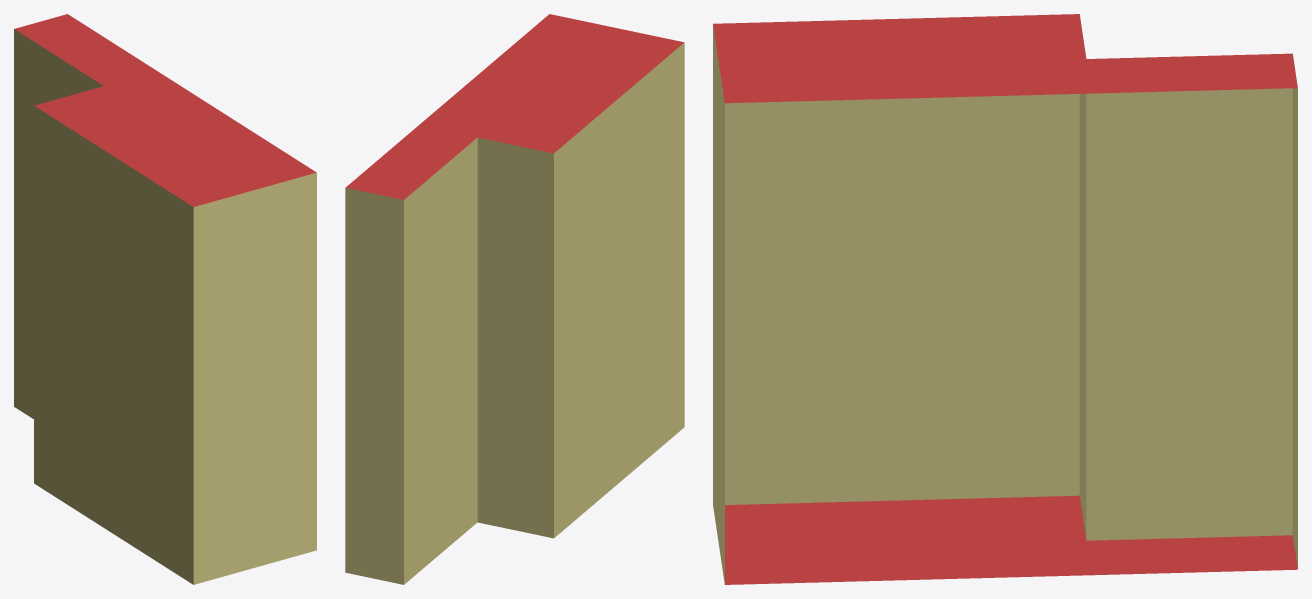
3 views of the same model, side by side, from view 1: azimuth 30°, elevation 25°; view 2: azimuth 150°, elevation 25°; view 3: azimuth 270°, elevation 25° (orthographic). The views are drawn at different scales.
Size of the model in its own units: 2.26 by 6.26 by 5.69.
